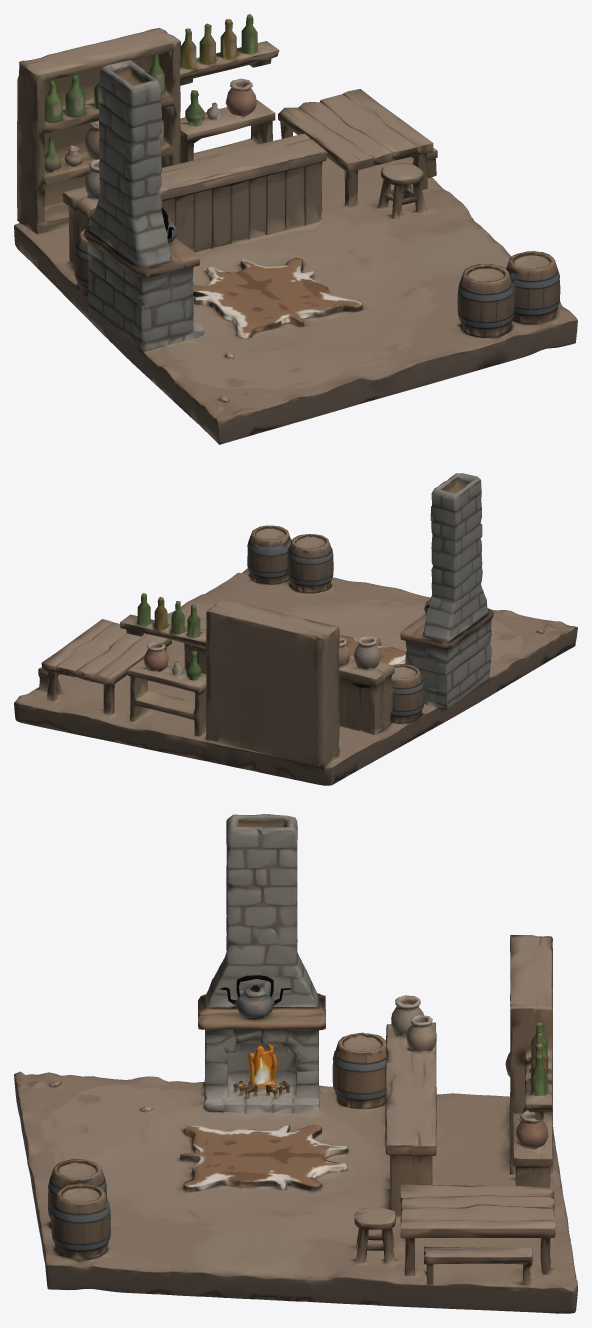
File: 1533c053-b3b3-4b12-8263-185ed3dd1467_model_url.glb
3 renders of one model, top to bottom at view 1: azimuth 30°, elevation 25°; view 2: azimuth 150°, elevation 25°; view 3: azimuth 270°, elevation 25°, orthographic. The views are drawn at different scales.
Visible parts, largest first — view 1: tripo_node_1533c053-b3b3-4b12-8263-185ed3dd1467; view 2: tripo_node_1533c053-b3b3-4b12-8263-185ed3dd1467; view 3: tripo_node_1533c053-b3b3-4b12-8263-185ed3dd1467.
Part boxes in pixels (box(x1,y1,x2,y2)): tripo_node_1533c053-b3b3-4b12-8263-185ed3dd1467: box(14, 14, 577, 444); tripo_node_1533c053-b3b3-4b12-8263-185ed3dd1467: box(14, 473, 577, 785); tripo_node_1533c053-b3b3-4b12-8263-185ed3dd1467: box(14, 814, 577, 1313).
Size of the model in its own units: 0.9133 by 0.5723 by 1.
Materials: 1 (1 with a texture image).
